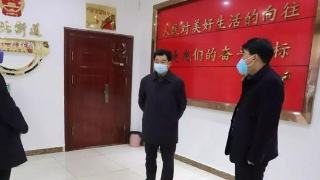Mask: (235, 47, 260, 76), (152, 54, 171, 77)
